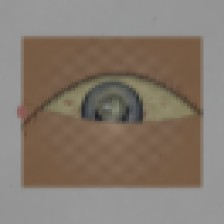corneal_ulcer: (84, 83, 139, 126)
